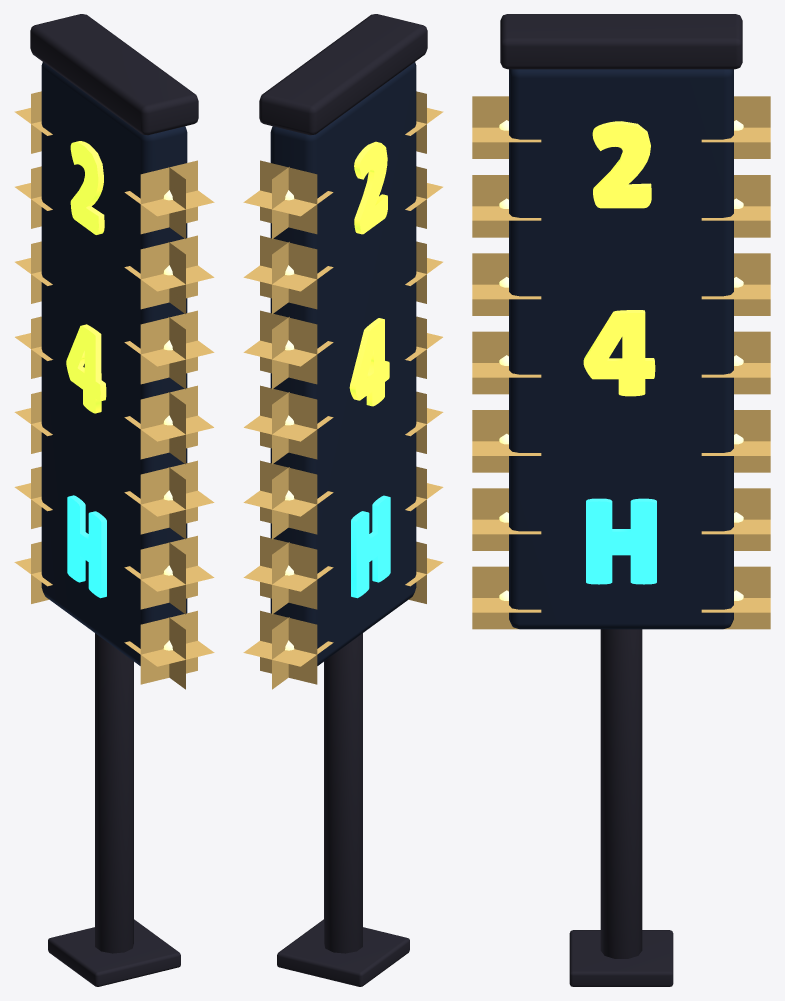
File: neon_blade_sign_b.glb
The picture shows the model from 3 angles, left to right: view 1: azimuth 30°, elevation 25°; view 2: azimuth 150°, elevation 25°; view 3: azimuth 270°, elevation 25°; orthographic projection. The views are drawn at different scales.
Parts seen in each view (by area): view 1: BladeSign; view 2: BladeSign; view 3: BladeSign.
Boxes of the visible parts, x1=… form: BladeSign: x1=14, y1=14, x2=214, y2=986; BladeSign: x1=243, y1=14, x2=443, y2=986; BladeSign: x1=472, y1=14, x2=770, y2=986.
Bounding box in the file's own units: 0.6 × 6 × 1.73.
